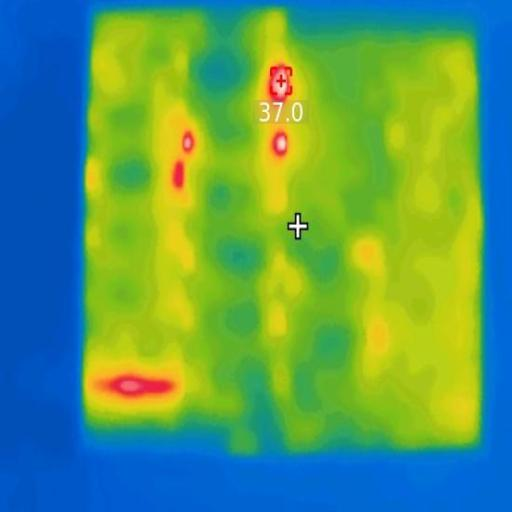hotspot: (114, 378, 178, 396), (268, 62, 295, 100), (169, 153, 187, 193), (272, 131, 289, 156), (182, 131, 198, 150)
